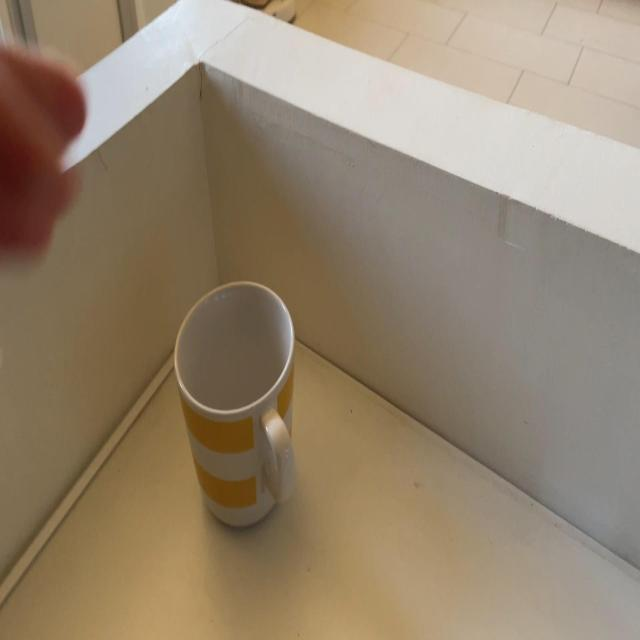cup: (171, 278, 305, 536)
